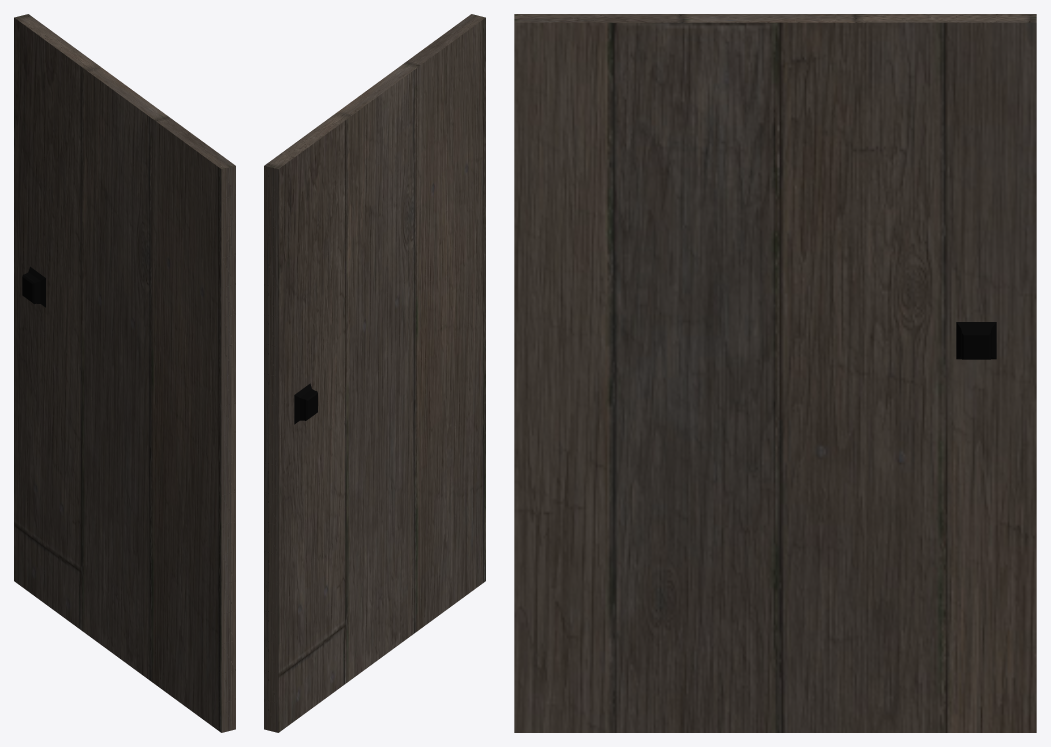
File: porta.glb
3 renders of one model, left to right at view 1: azimuth 30°, elevation 25°; view 2: azimuth 150°, elevation 25°; view 3: azimuth 270°, elevation 25°, orthographic. The views are drawn at different scales.
Parts seen in each view (by area): view 1: Cube; view 2: Cube; view 3: Cube.
Boxes of the visible parts, box(x1,y1,x2,y2) form: Cube: box(14, 14, 235, 732); Cube: box(264, 14, 485, 732); Cube: box(514, 14, 1036, 732).
Bounding box in the file's own units: 0.5957 × 9 × 6.
2 materials, 1 textured.
